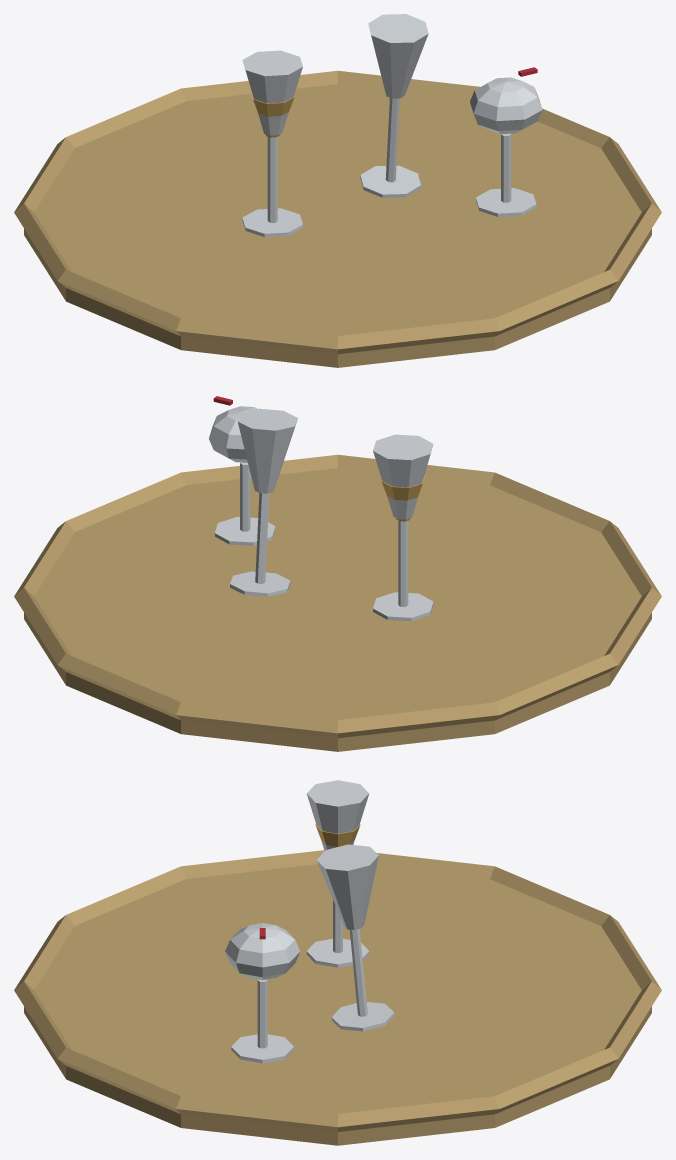
File: champagne_glasses.obj
The picture shows the model from 3 angles, top to bottom: view 1: azimuth 30°, elevation 25°; view 2: azimuth 150°, elevation 25°; view 3: azimuth 270°, elevation 25°; orthographic projection.
Visible parts, largest first — view 1: Tray, TrayRim, Glass_Empty, Glass_Full, WineGlass_Lipstick; view 2: Tray, TrayRim, Glass_Full, Glass_Empty, WineGlass_Lipstick; view 3: Tray, TrayRim, Glass_Empty, WineGlass_Lipstick, Glass_Full.
Boxes of the visible parts, left/top/right/bottom form: Tray: left=24, top=84, right=651, bottom=367; TrayRim: left=14, top=70, right=661, bottom=354; Glass_Empty: left=360, top=14, right=428, bottom=197; Glass_Full: left=242, top=50, right=302, bottom=237; WineGlass_Lipstick: left=470, top=67, right=542, bottom=216; Tray: left=24, top=468, right=651, bottom=751; TrayRim: left=14, top=454, right=661, bottom=738; Glass_Full: left=373, top=434, right=433, bottom=621; Glass_Empty: left=230, top=408, right=297, bottom=596; WineGlass_Lipstick: left=209, top=396, right=275, bottom=545; Tray: left=24, top=864, right=651, bottom=1145; TrayRim: left=14, top=850, right=661, bottom=1131; Glass_Empty: left=316, top=844, right=394, bottom=1031; WineGlass_Lipstick: left=225, top=923, right=300, bottom=1063; Glass_Full: left=306, top=780, right=369, bottom=967.
Size of the model in its own units: 0.516 by 0.1666 by 0.516.
